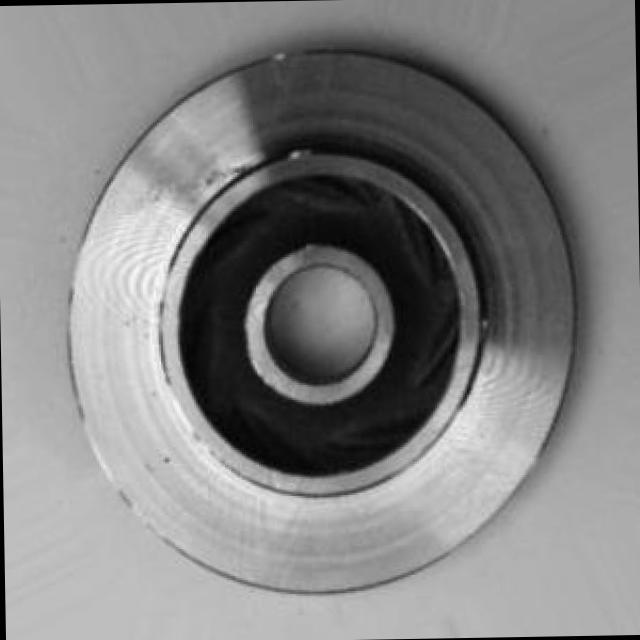Defect: (274, 139, 320, 170)
